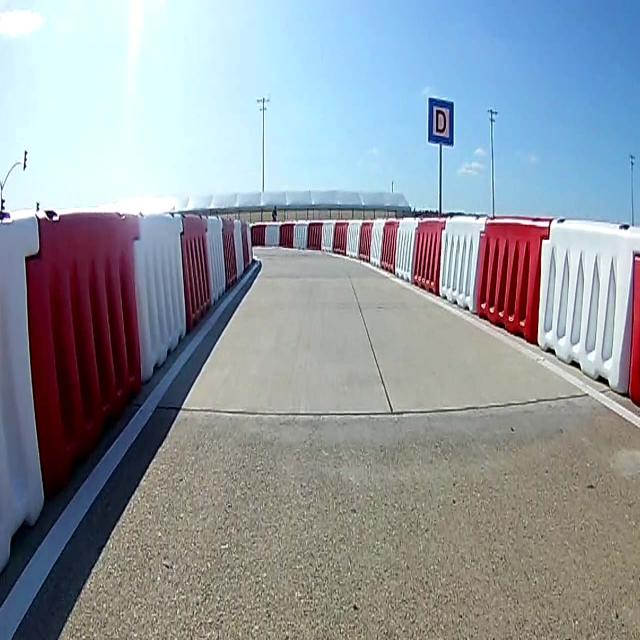durak: (427, 97, 453, 147)
